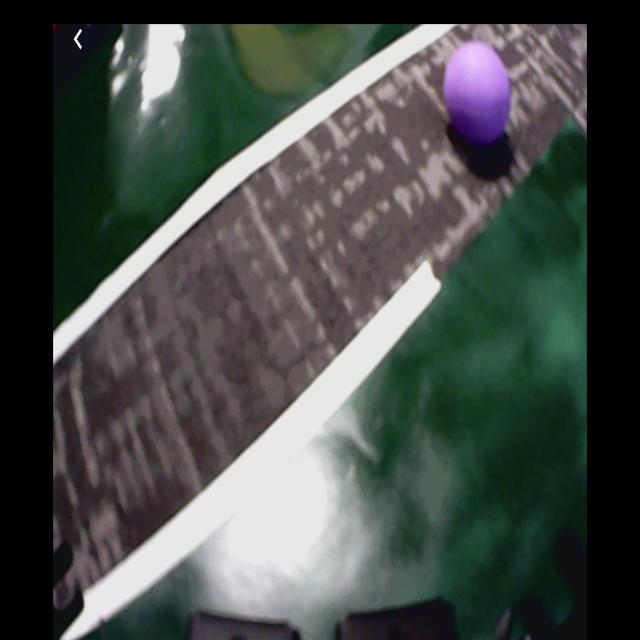ball: (443, 40, 511, 147)
